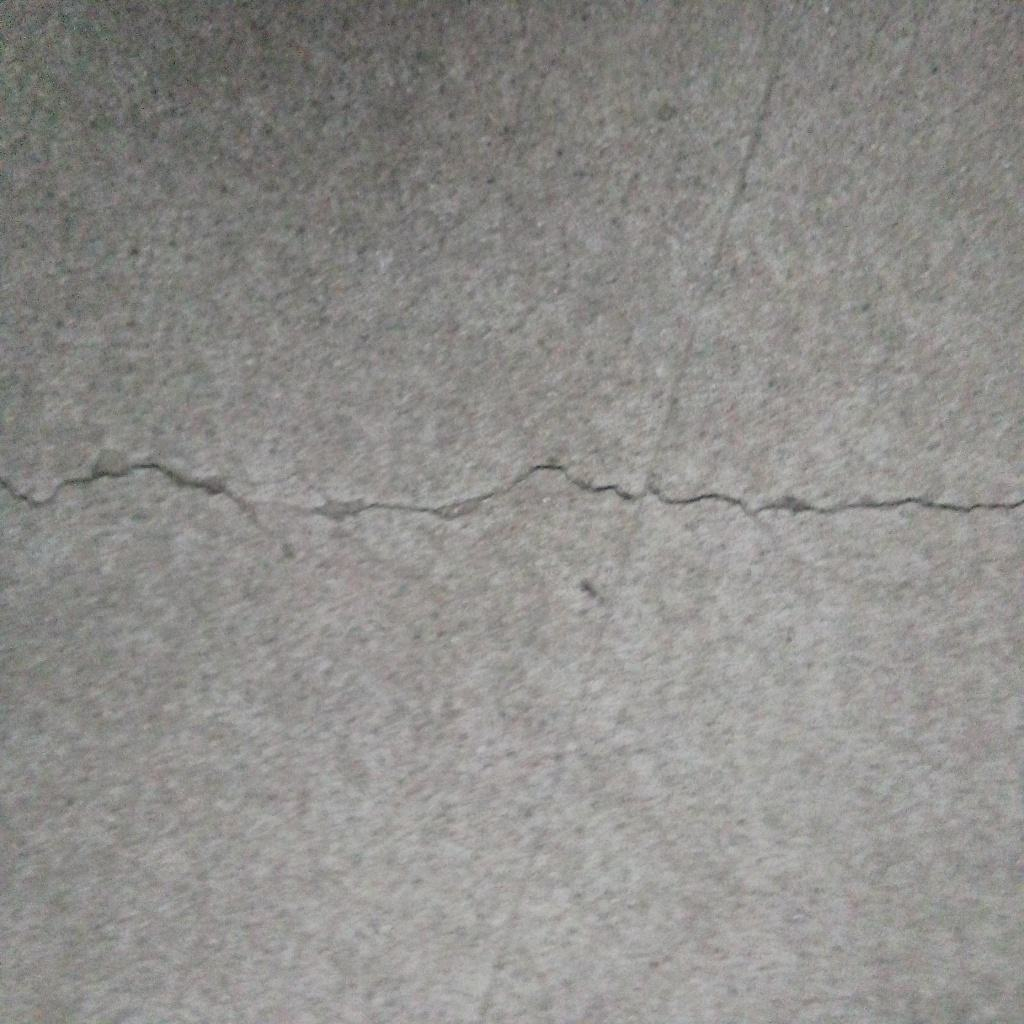Crack: (1, 460, 1024, 536)
